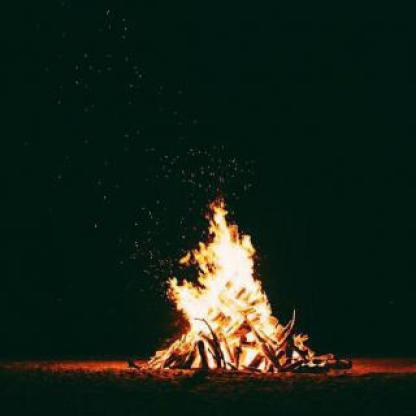fire: (155, 195, 286, 367)
